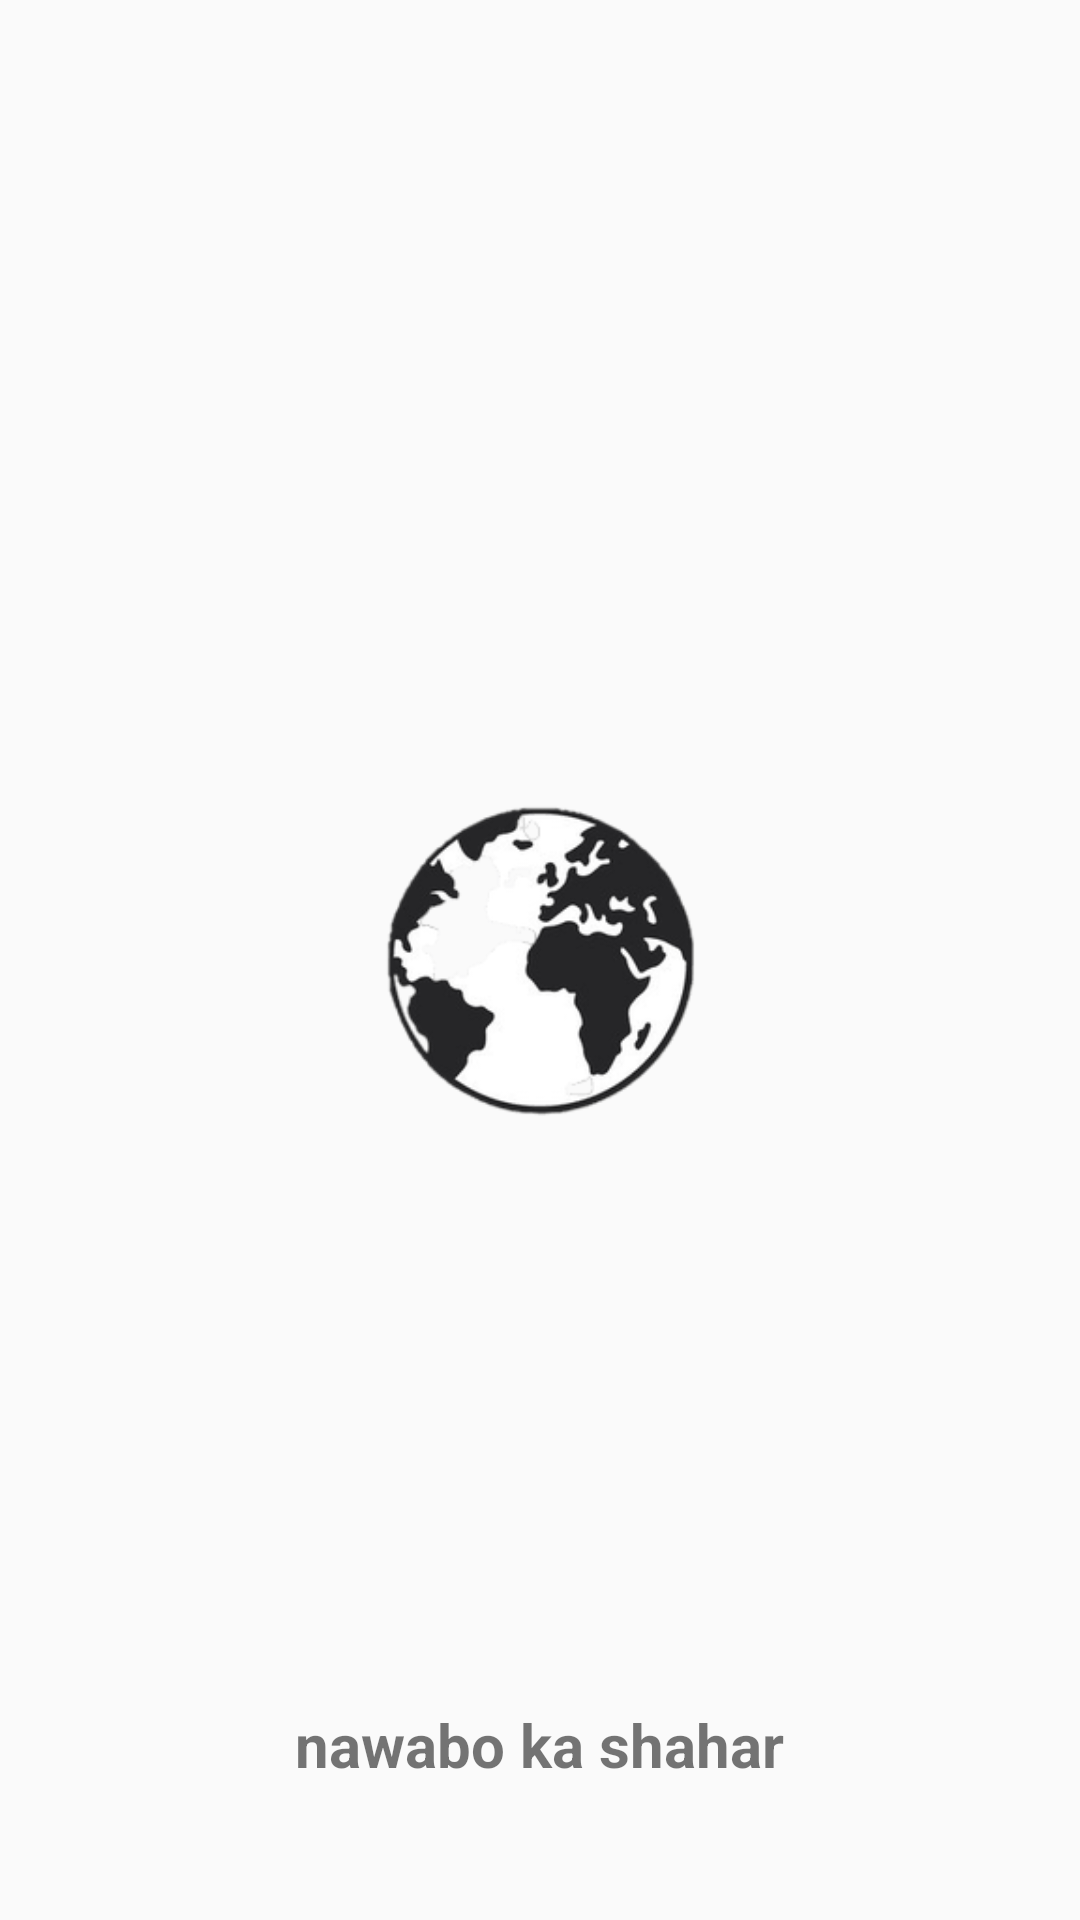

Screen size 1080*1920. Icon name, then its center in pixels as (x=x, y=y):
world: (x=540, y=961)
